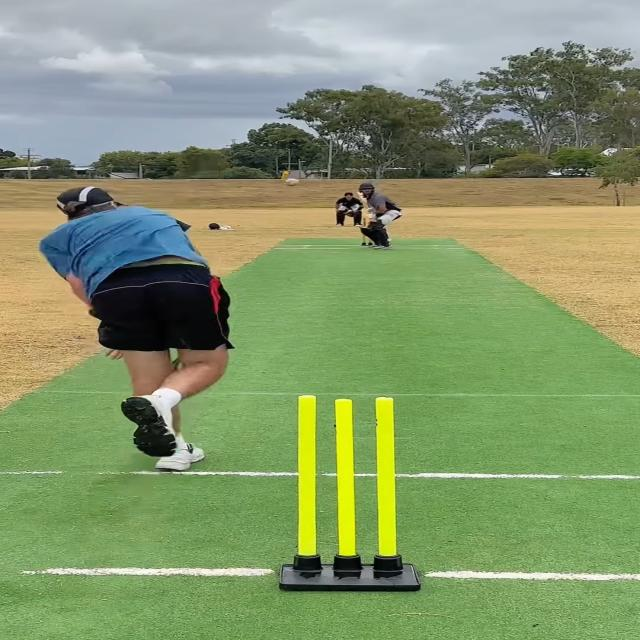ball: (283, 178, 301, 187)
stump: (282, 394, 419, 594)
